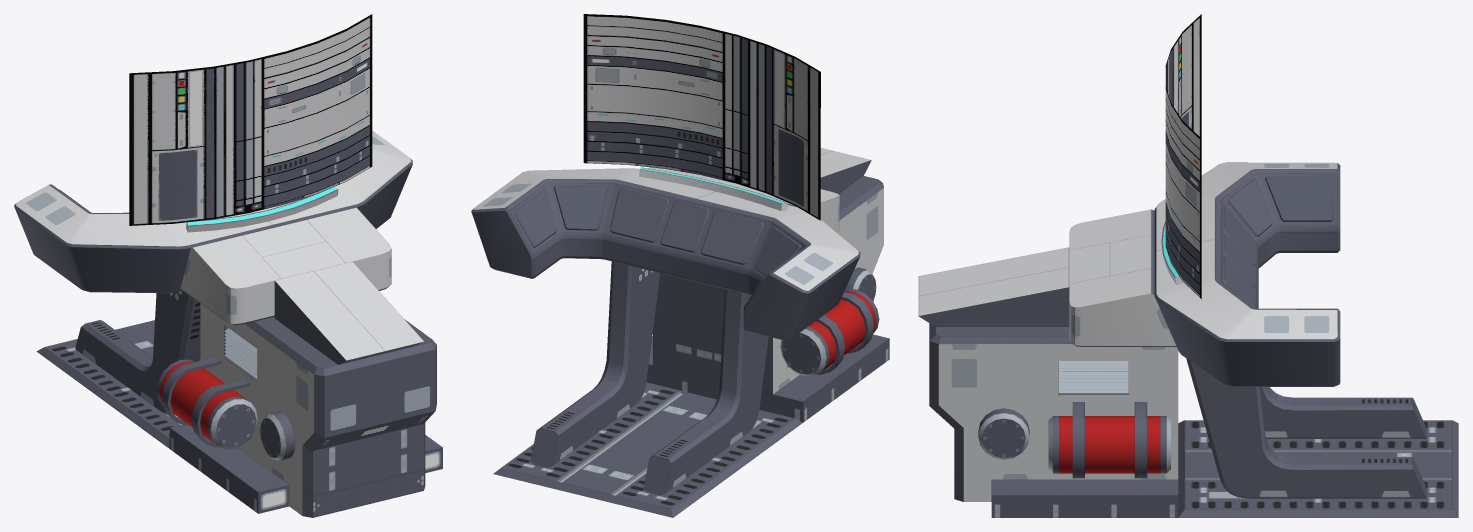
The model's file is Cockpit_Tech_03_Rev_B.FBX.
The picture shows the model from 3 angles, left to right: view 1: azimuth 30°, elevation 25°; view 2: azimuth 150°, elevation 25°; view 3: azimuth 270°, elevation 25°; orthographic projection. The views are drawn at different scales.
Visible parts, largest first — view 1: Cockpit_Tech_03_Rev_B, Screen_A; view 2: Cockpit_Tech_03_Rev_B, Screen_A; view 3: Cockpit_Tech_03_Rev_B, Screen_A.
Boxes of the visible parts, x1,y1,x2,y2 form: Cockpit_Tech_03_Rev_B: (14, 131, 442, 517); Screen_A: (129, 14, 372, 225); Cockpit_Tech_03_Rev_B: (471, 147, 889, 517); Screen_A: (583, 14, 820, 220); Cockpit_Tech_03_Rev_B: (918, 162, 1458, 517); Screen_A: (1165, 14, 1201, 298).
Size of the model in its own units: 2.18 by 2.25 by 2.79.
